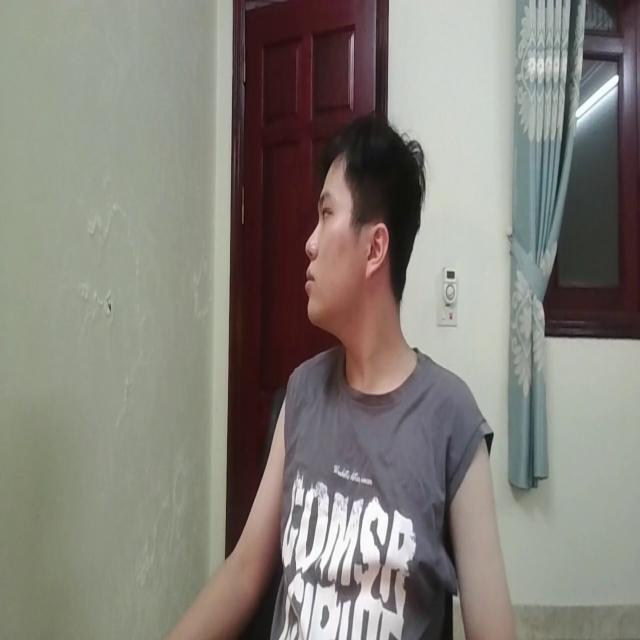student: (200, 119, 508, 640)
